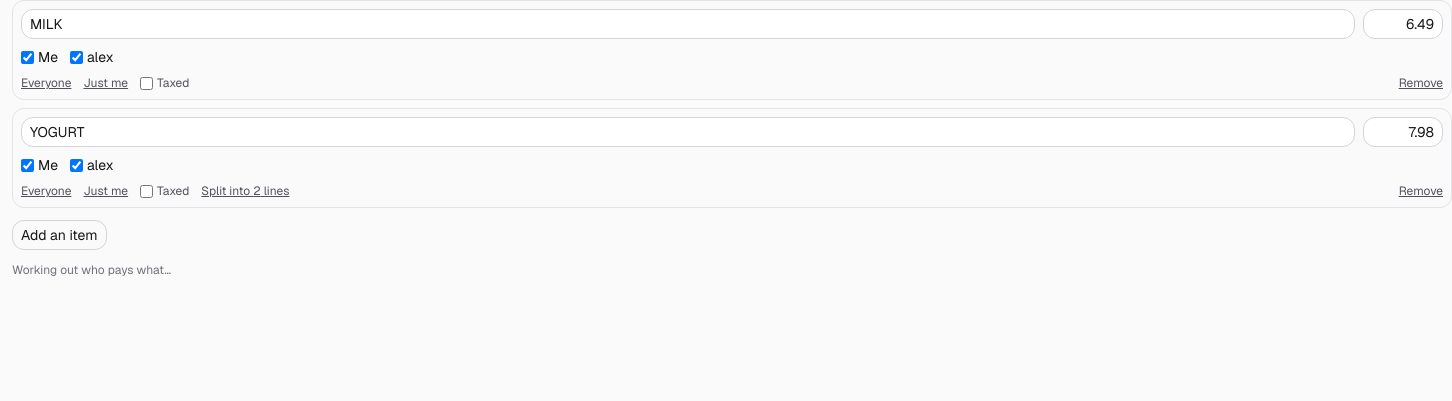
Test case: a line with a quantity can be split so each unit goes to one person
The width and height of the screenshot is (1452, 401).
Click the button "Split into 2 lines" at (245,191), box [201,183,289,199]
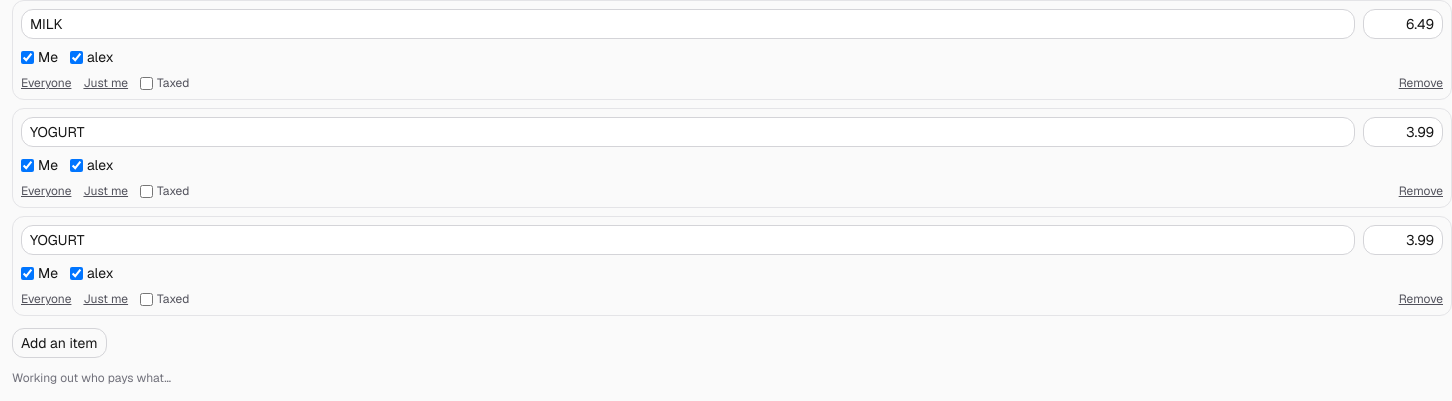
expect the button "Split into" is gone: met
